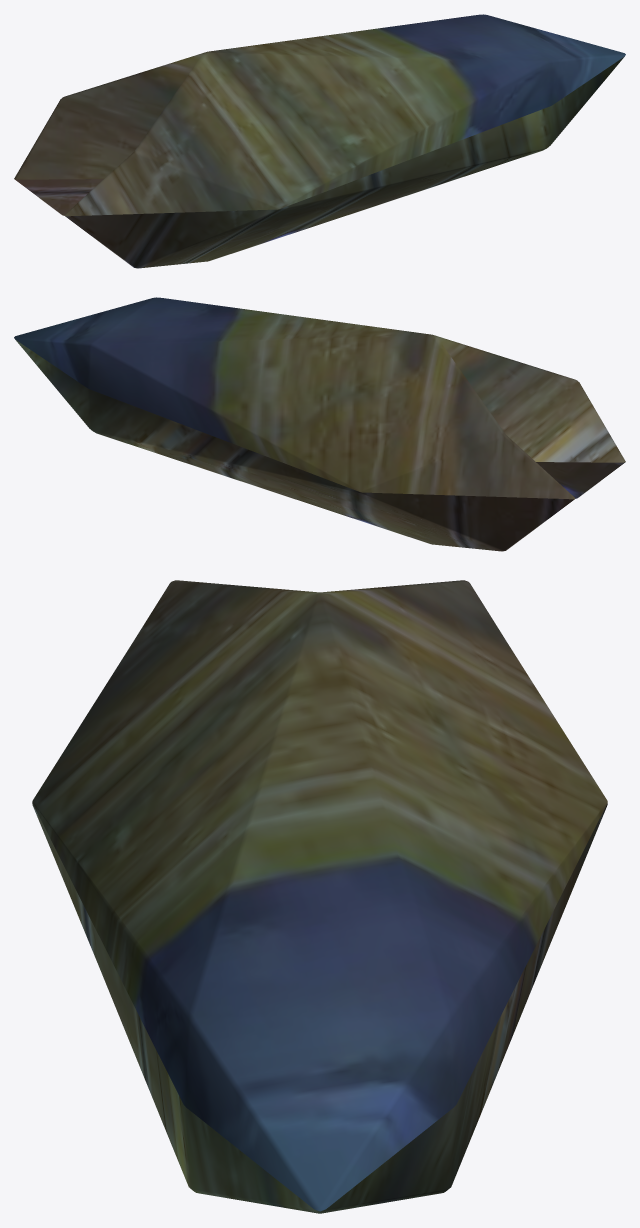
The picture shows the model from 3 angles, top to bottom: view 1: azimuth 30°, elevation 25°; view 2: azimuth 150°, elevation 25°; view 3: azimuth 270°, elevation 25°; orthographic projection. The views are drawn at different scales.
Visible parts, largest first — view 1: SM_Crossbow_Mithril_1H_01_LOD0; view 2: SM_Crossbow_Mithril_1H_01_LOD0; view 3: SM_Crossbow_Mithril_1H_01_LOD0.
Part boxes in pixels (x1,y1,x2,y2): SM_Crossbow_Mithril_1H_01_LOD0: [14, 14, 625, 268]; SM_Crossbow_Mithril_1H_01_LOD0: [14, 297, 625, 551]; SM_Crossbow_Mithril_1H_01_LOD0: [32, 580, 607, 1213].
Bounding box in the file's own units: 0.0713 × 0.0243 × 0.0303.
